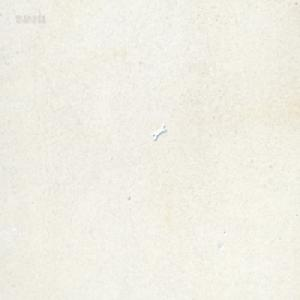Wrench: (152, 124, 167, 140)
